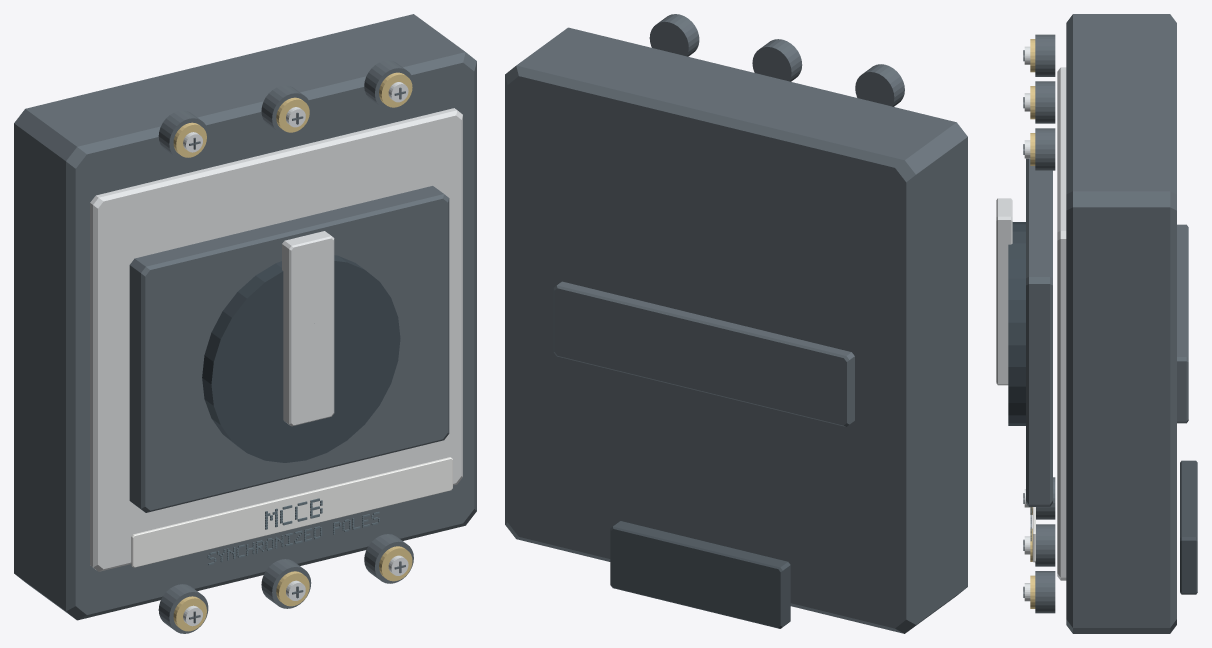
The model's file is mccb3P.glb.
The picture shows the model from 3 angles, left to right: view 1: azimuth 30°, elevation 25°; view 2: azimuth 150°, elevation 25°; view 3: azimuth 270°, elevation 25°; orthographic projection. The views are drawn at different scales.
Parts seen in each view (by area): view 1: mccb3P-detailed; view 2: mccb3P-detailed; view 3: mccb3P-detailed.
Part boxes in pixels (box(x1,y1,x2,y2)): mccb3P-detailed: box(14, 14, 476, 633); mccb3P-detailed: box(505, 14, 967, 633); mccb3P-detailed: box(996, 14, 1197, 633).
Size of the model in its own units: 3.29 by 3.94 by 1.49.
